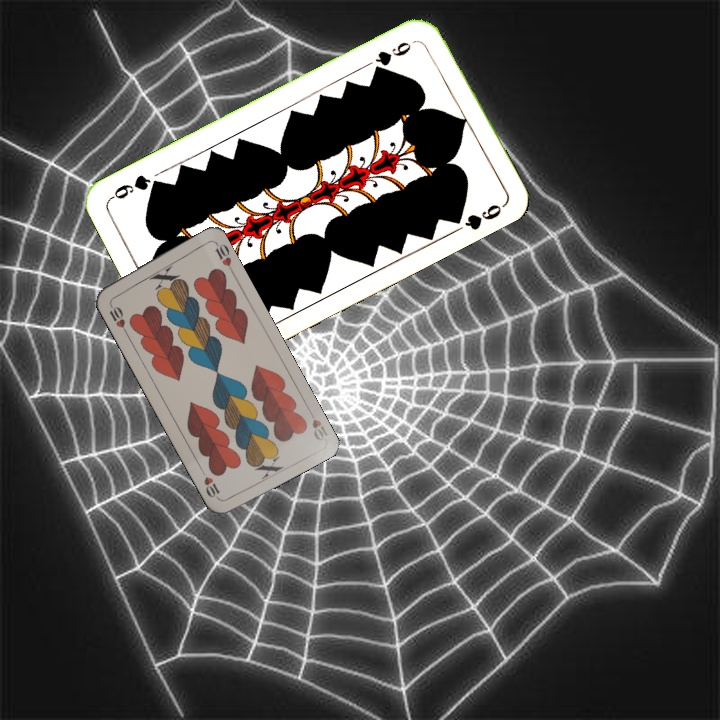G9: (369, 37, 414, 75)
H10: (304, 405, 331, 444), (105, 299, 130, 337)
